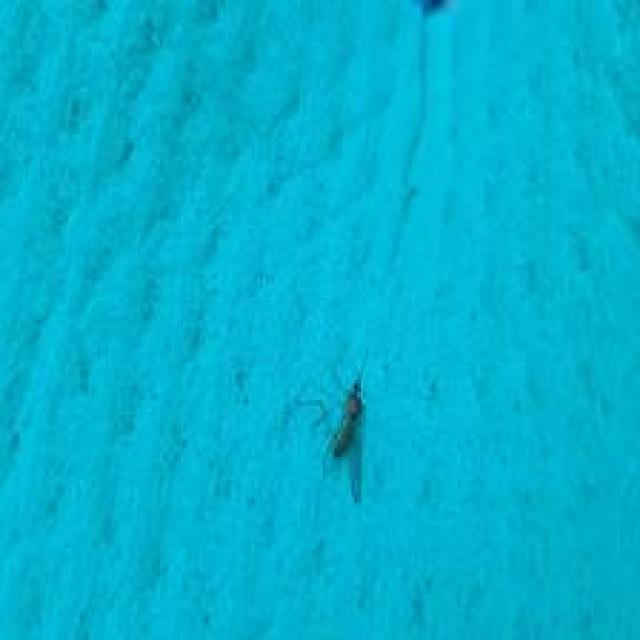Culex: (322, 376, 367, 504)
